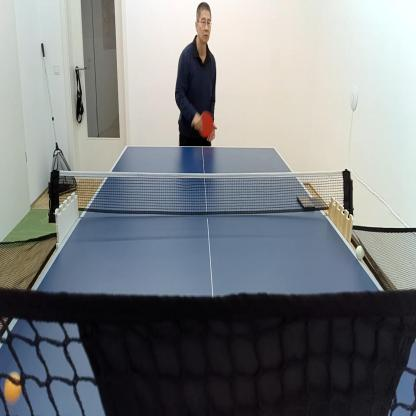Ball: (4, 374, 22, 402), (356, 246, 365, 260)
